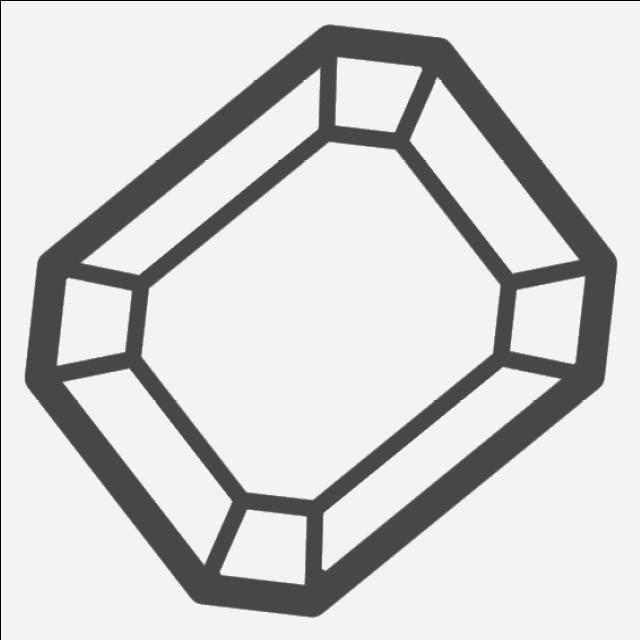emerald: (19, 11, 629, 630)
